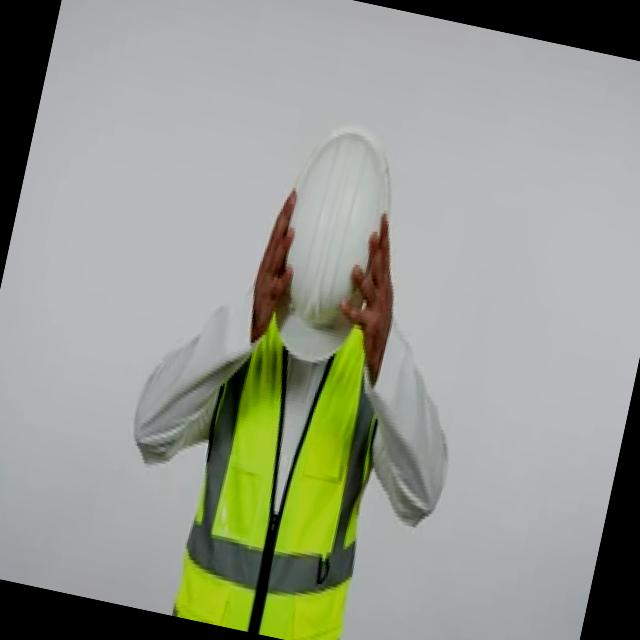helmet: (250, 121, 406, 356)
vest: (179, 325, 384, 640)
